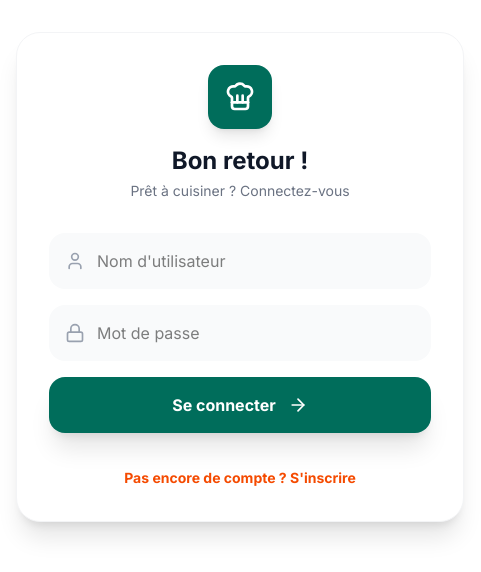
it: LoginPage › connexion échouée : affiche le message d'erreur, sans navigation
This screenshot has width=481, height=572.
Type "alice" into the field with placeholder "Nom d'utilisateur" at (240,261), box [49,233,431,289]
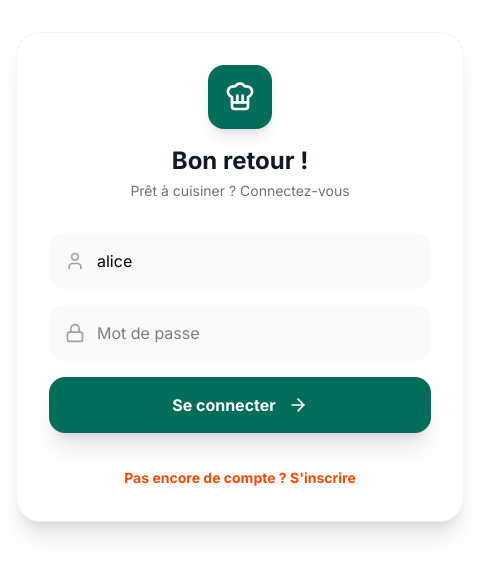
Type "mauvais" into the password field with placeholder "Mot de passe" at (240,333), box [49,305,431,361]
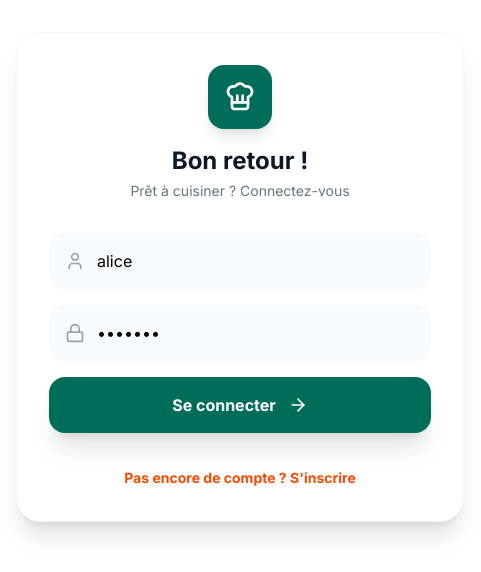
Submit the form with placeholder "Mot de passe", box [49,233,431,433]
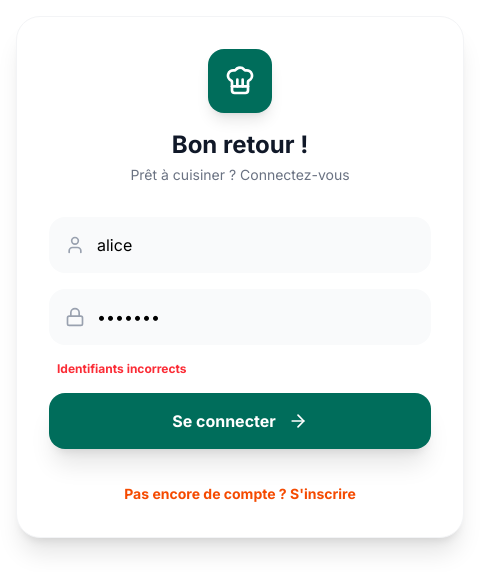
Check: the text "Identifiants incorrects" is shown, box [57,361,187,376]
